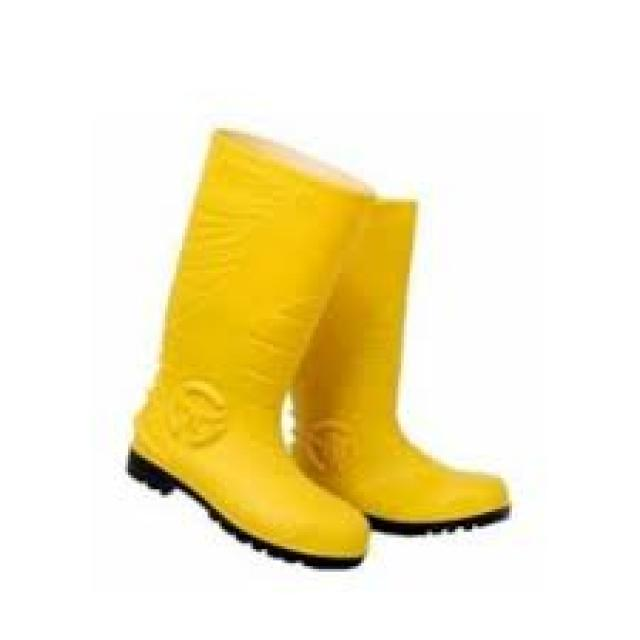shoes: (129, 130, 509, 566)
